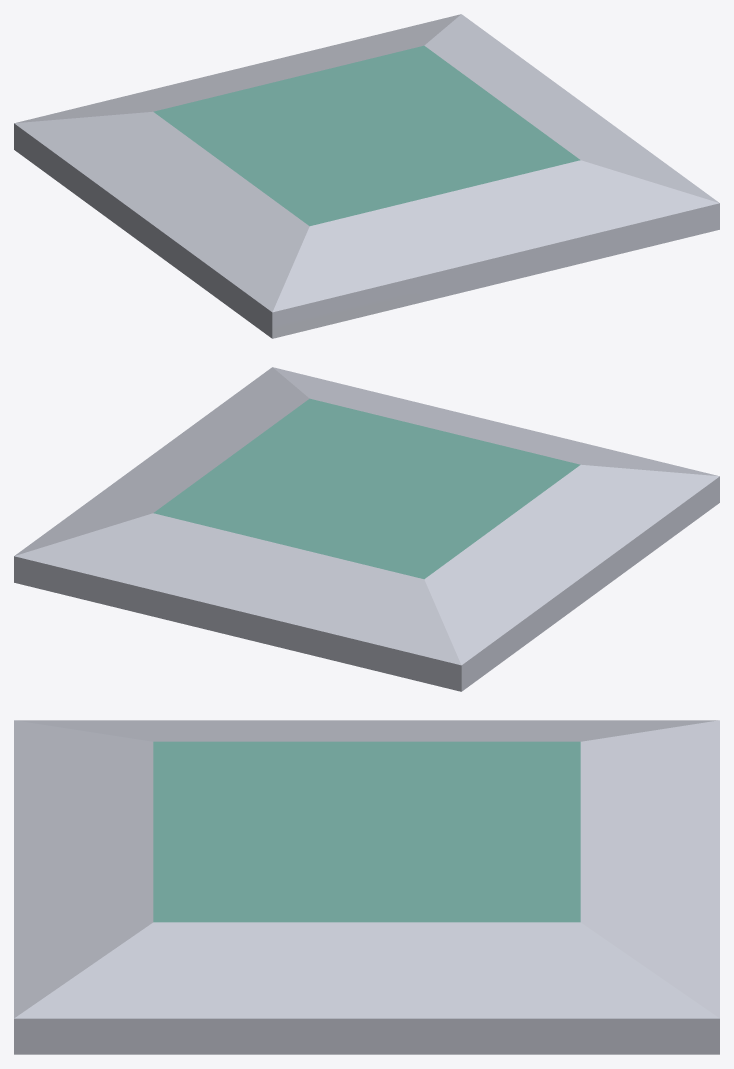
Rendered from SpawnPad.glb.
The picture shows the model from 3 angles, top to bottom: view 1: azimuth 30°, elevation 25°; view 2: azimuth 150°, elevation 25°; view 3: azimuth 270°, elevation 25°; orthographic projection. The views are drawn at different scales.
Parts seen in each view (by area): view 1: Cube; view 2: Cube; view 3: Cube.
Boxes of the visible parts, left/top/right/bottom form: Cube: left=14, top=14, right=719, bottom=338; Cube: left=14, top=367, right=719, bottom=691; Cube: left=14, top=720, right=719, bottom=1054.
Size of the model in its own units: 2 by 0.2296 by 2.
1 material, 1 textured.
